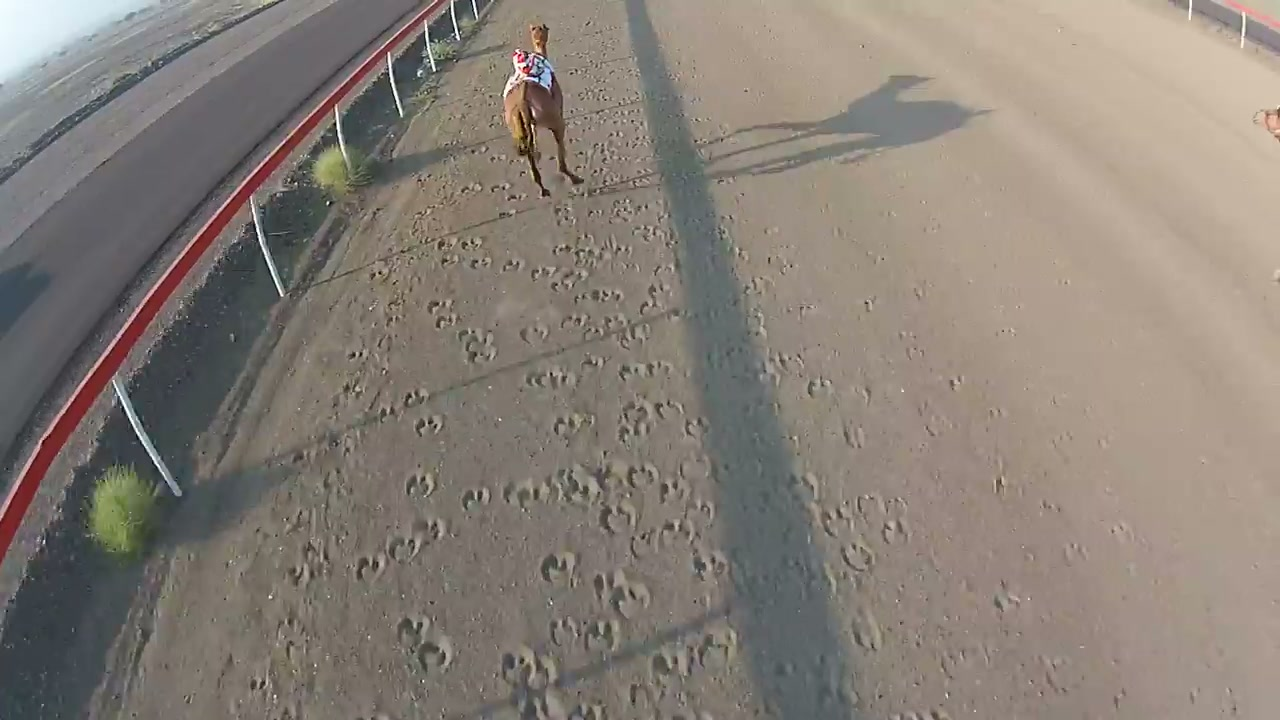animal_foot_print: (650, 627, 739, 684), (396, 616, 455, 673), (618, 396, 683, 442), (593, 569, 651, 619), (500, 646, 558, 691), (552, 464, 602, 506), (287, 538, 330, 586), (553, 243, 628, 270), (938, 643, 991, 680), (696, 627, 738, 671), (512, 687, 567, 719), (275, 612, 307, 667), (813, 502, 860, 539), (1037, 655, 1081, 694), (816, 671, 857, 710), (650, 645, 692, 683), (415, 635, 454, 673), (596, 457, 634, 496), (503, 479, 551, 509), (385, 527, 425, 562), (851, 608, 883, 651), (457, 328, 496, 363), (855, 493, 902, 522), (655, 519, 698, 550), (599, 500, 638, 534), (540, 551, 577, 586), (583, 619, 621, 653), (841, 537, 876, 572), (396, 616, 431, 651), (678, 452, 718, 482), (552, 411, 594, 439), (692, 548, 728, 580), (410, 517, 448, 546), (526, 366, 576, 388), (584, 313, 628, 338), (619, 361, 673, 381), (331, 377, 364, 409), (626, 682, 657, 716), (614, 323, 651, 350), (549, 616, 581, 647), (354, 552, 388, 581), (790, 472, 821, 503), (626, 462, 661, 489), (427, 298, 457, 329), (685, 497, 716, 527), (550, 268, 588, 292), (247, 662, 273, 697), (405, 470, 437, 498), (993, 581, 1022, 611), (629, 528, 657, 559), (658, 476, 689, 503), (881, 518, 911, 545), (574, 288, 624, 304), (284, 508, 315, 533), (992, 472, 1020, 497), (462, 487, 491, 511), (889, 708, 951, 719), (756, 360, 781, 387), (747, 308, 767, 341), (1063, 542, 1089, 566), (415, 414, 443, 436), (567, 704, 608, 719), (267, 701, 300, 719), (520, 323, 548, 344), (744, 275, 773, 295), (685, 417, 708, 442), (843, 423, 865, 449), (560, 313, 590, 331), (402, 389, 428, 409), (662, 709, 713, 719), (647, 279, 671, 300), (807, 377, 831, 397), (638, 298, 663, 317), (581, 353, 607, 371), (374, 332, 396, 353), (554, 205, 576, 226), (374, 403, 398, 422), (789, 303, 817, 319), (530, 265, 558, 281), (367, 262, 389, 281), (426, 299, 452, 314), (434, 313, 458, 329), (501, 257, 524, 272), (353, 711, 396, 719), (468, 255, 491, 269), (440, 252, 460, 268), (436, 237, 457, 252), (460, 237, 482, 251), (347, 347, 367, 362), (948, 374, 964, 391), (490, 182, 511, 192)
